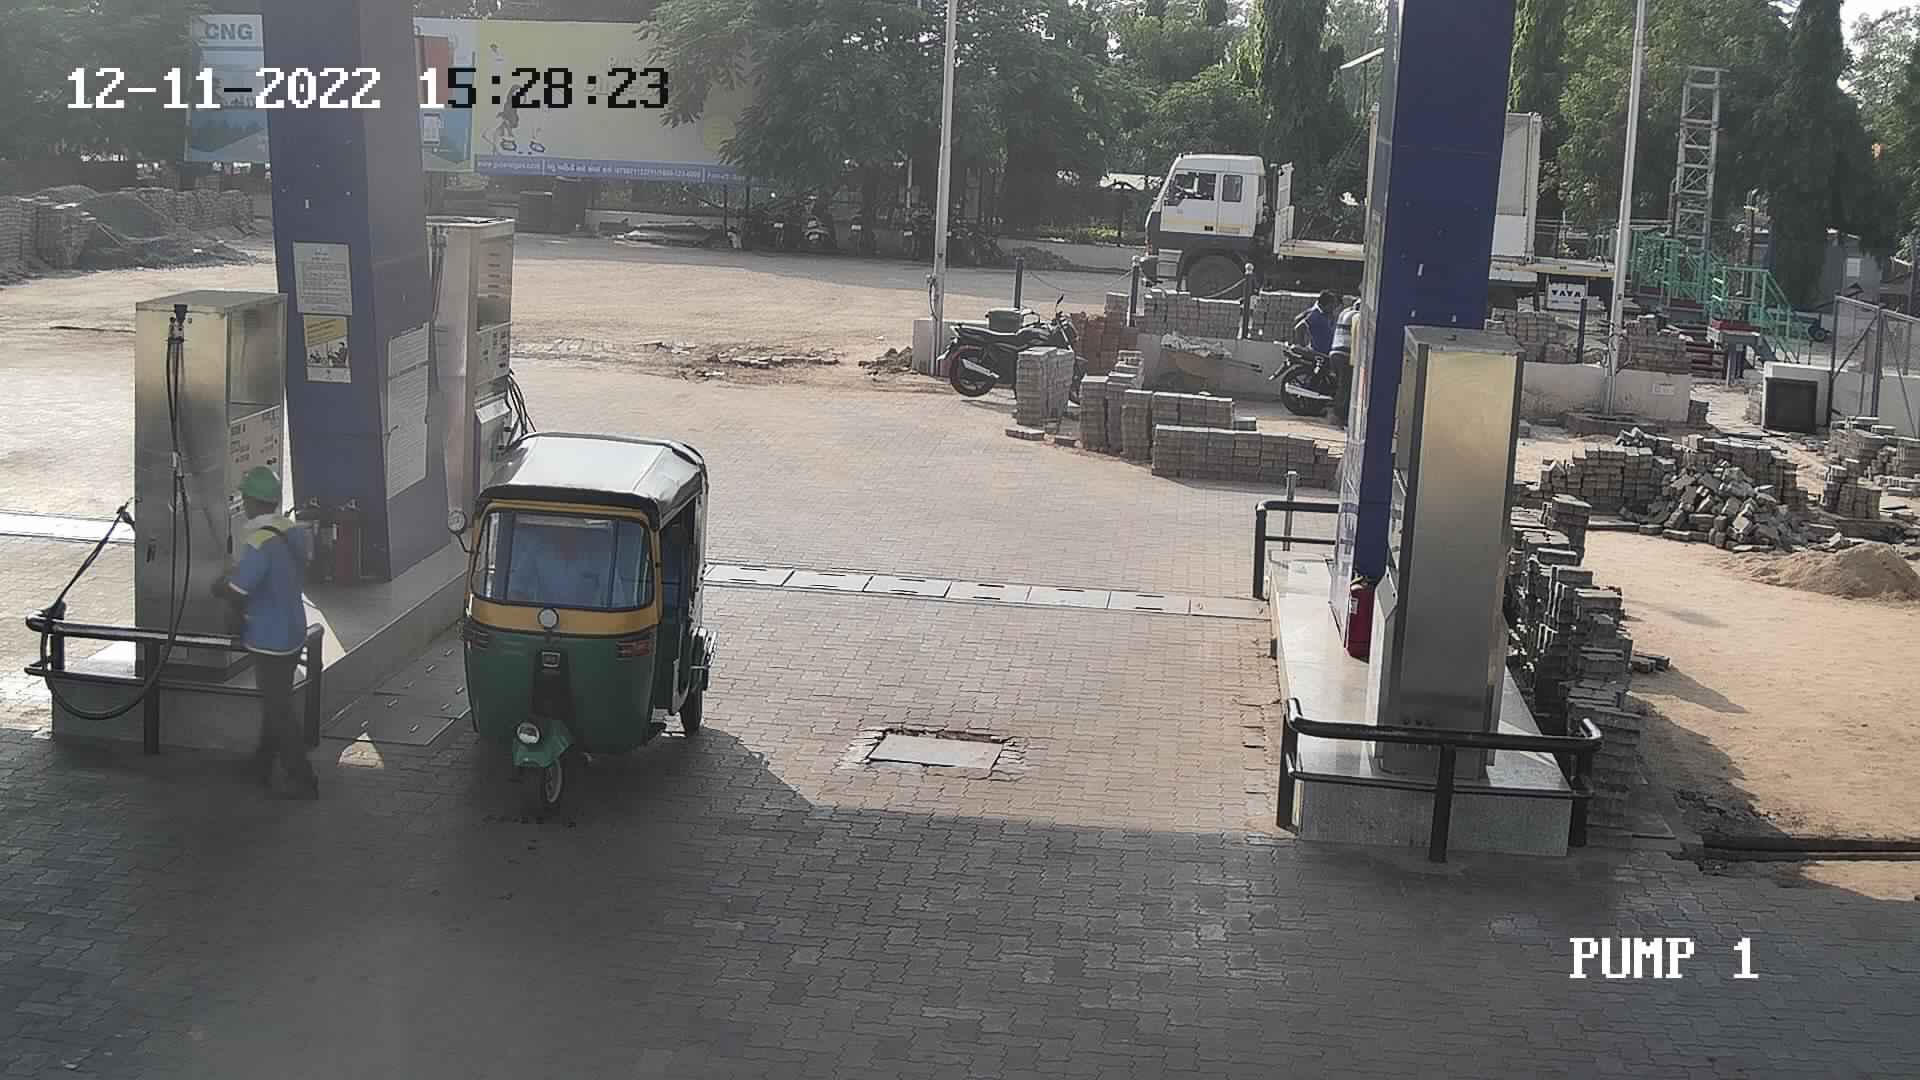Auto: (440, 421, 723, 824)
Bike: (934, 285, 1110, 429), (1262, 326, 1358, 429), (938, 191, 1017, 274), (729, 185, 779, 253), (841, 185, 887, 258), (767, 187, 815, 255), (891, 186, 931, 262), (799, 193, 841, 257)
HMV: (1116, 95, 1382, 326)
Others: (214, 462, 330, 804)
